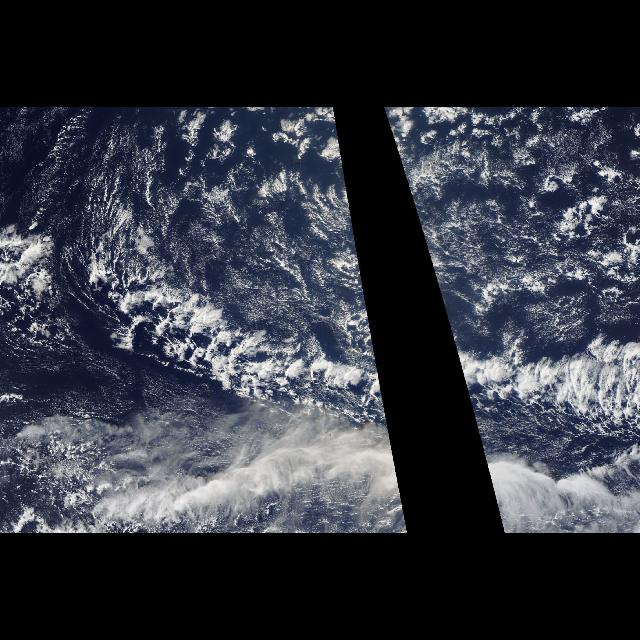Fish: (34, 221, 393, 451), (420, 226, 640, 452)
Gravel: (396, 115, 640, 338)
Sugar: (85, 136, 371, 330), (391, 136, 633, 330)
